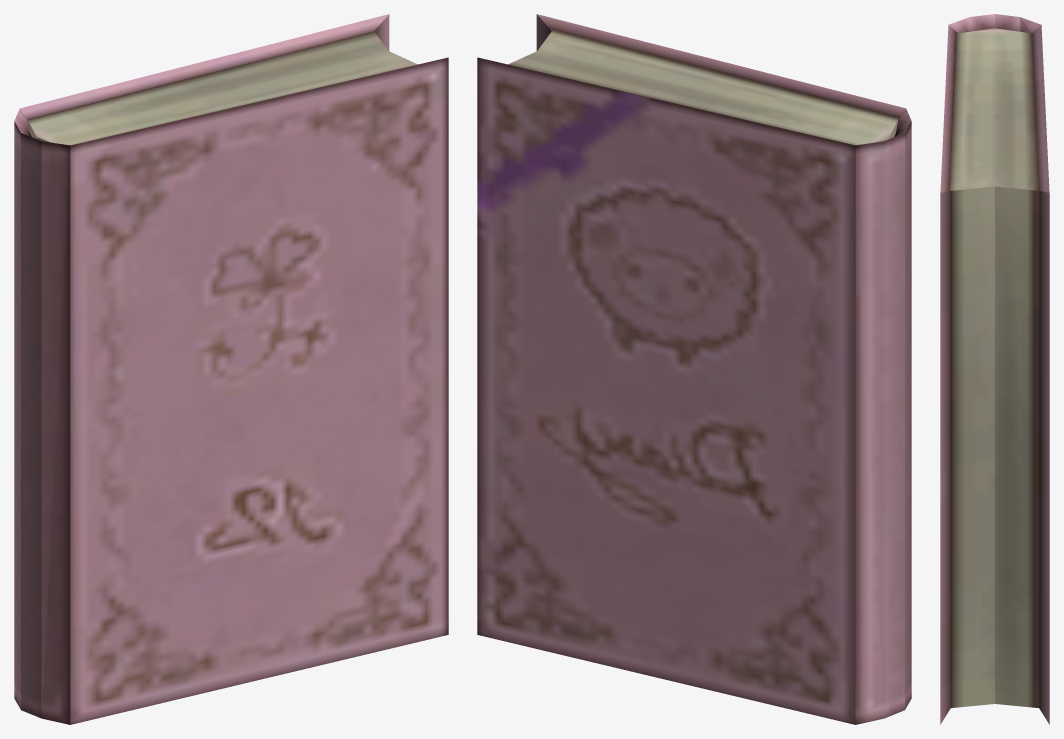
File: Sheep_diary.obj
The picture shows the model from 3 angles, left to right: view 1: azimuth 30°, elevation 25°; view 2: azimuth 150°, elevation 25°; view 3: azimuth 270°, elevation 25°; orthographic projection. The views are drawn at different scales.
Parts seen in each view (by area): view 1: Sheep_diary_tri; view 2: Sheep_diary_tri; view 3: Sheep_diary_tri.
Part boxes in pixels (box(x1,y1,x2,y2)): Sheep_diary_tri: box(14, 14, 448, 724); Sheep_diary_tri: box(477, 14, 911, 724); Sheep_diary_tri: box(940, 14, 1049, 724).
Bounding box in the file's own units: 0.2276 × 0.3156 × 0.0587.
1 material, 1 textured.
